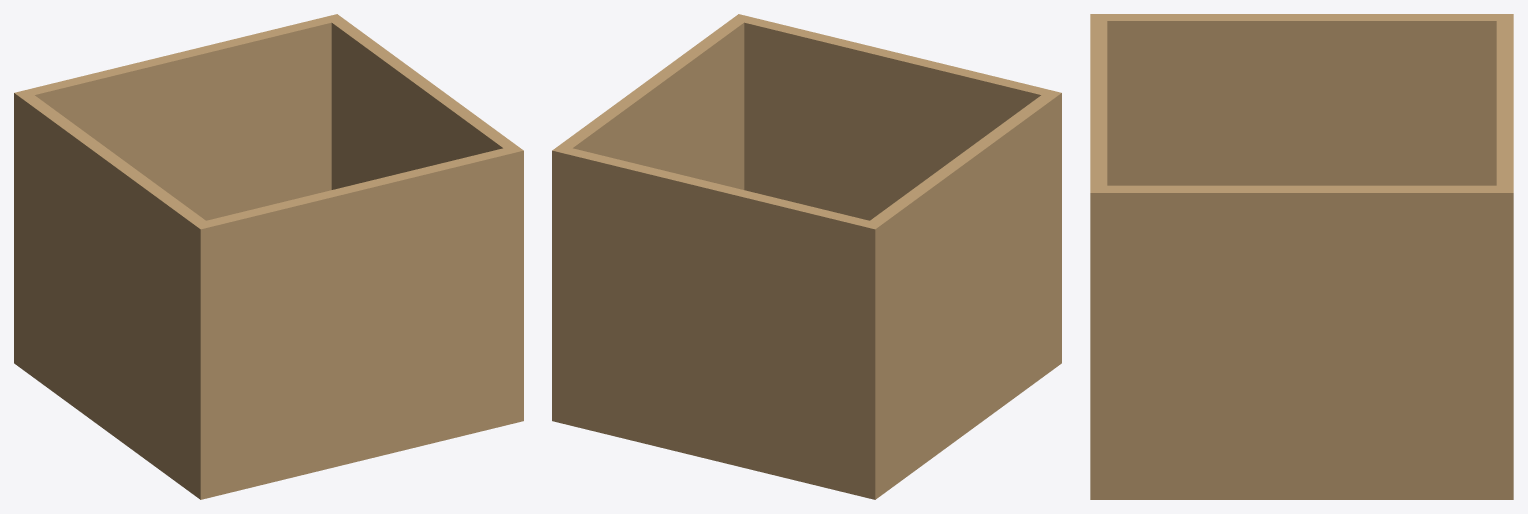
File: crate_with_lid_v10_CrateBody.glb
The picture shows the model from 3 angles, left to right: view 1: azimuth 30°, elevation 25°; view 2: azimuth 150°, elevation 25°; view 3: azimuth 270°, elevation 25°; orthographic projection. The views are drawn at different scales.
Visible parts, largest first — view 1: CrateBody; view 2: CrateBody; view 3: CrateBody.
Boxes of the visible parts, left/top/right/bottom form: CrateBody: left=14, top=14, right=523, bottom=499; CrateBody: left=552, top=14, right=1061, bottom=499; CrateBody: left=1090, top=14, right=1513, bottom=499.
Bounding box in the file's own units: 0.5 × 0.4 × 0.5.
